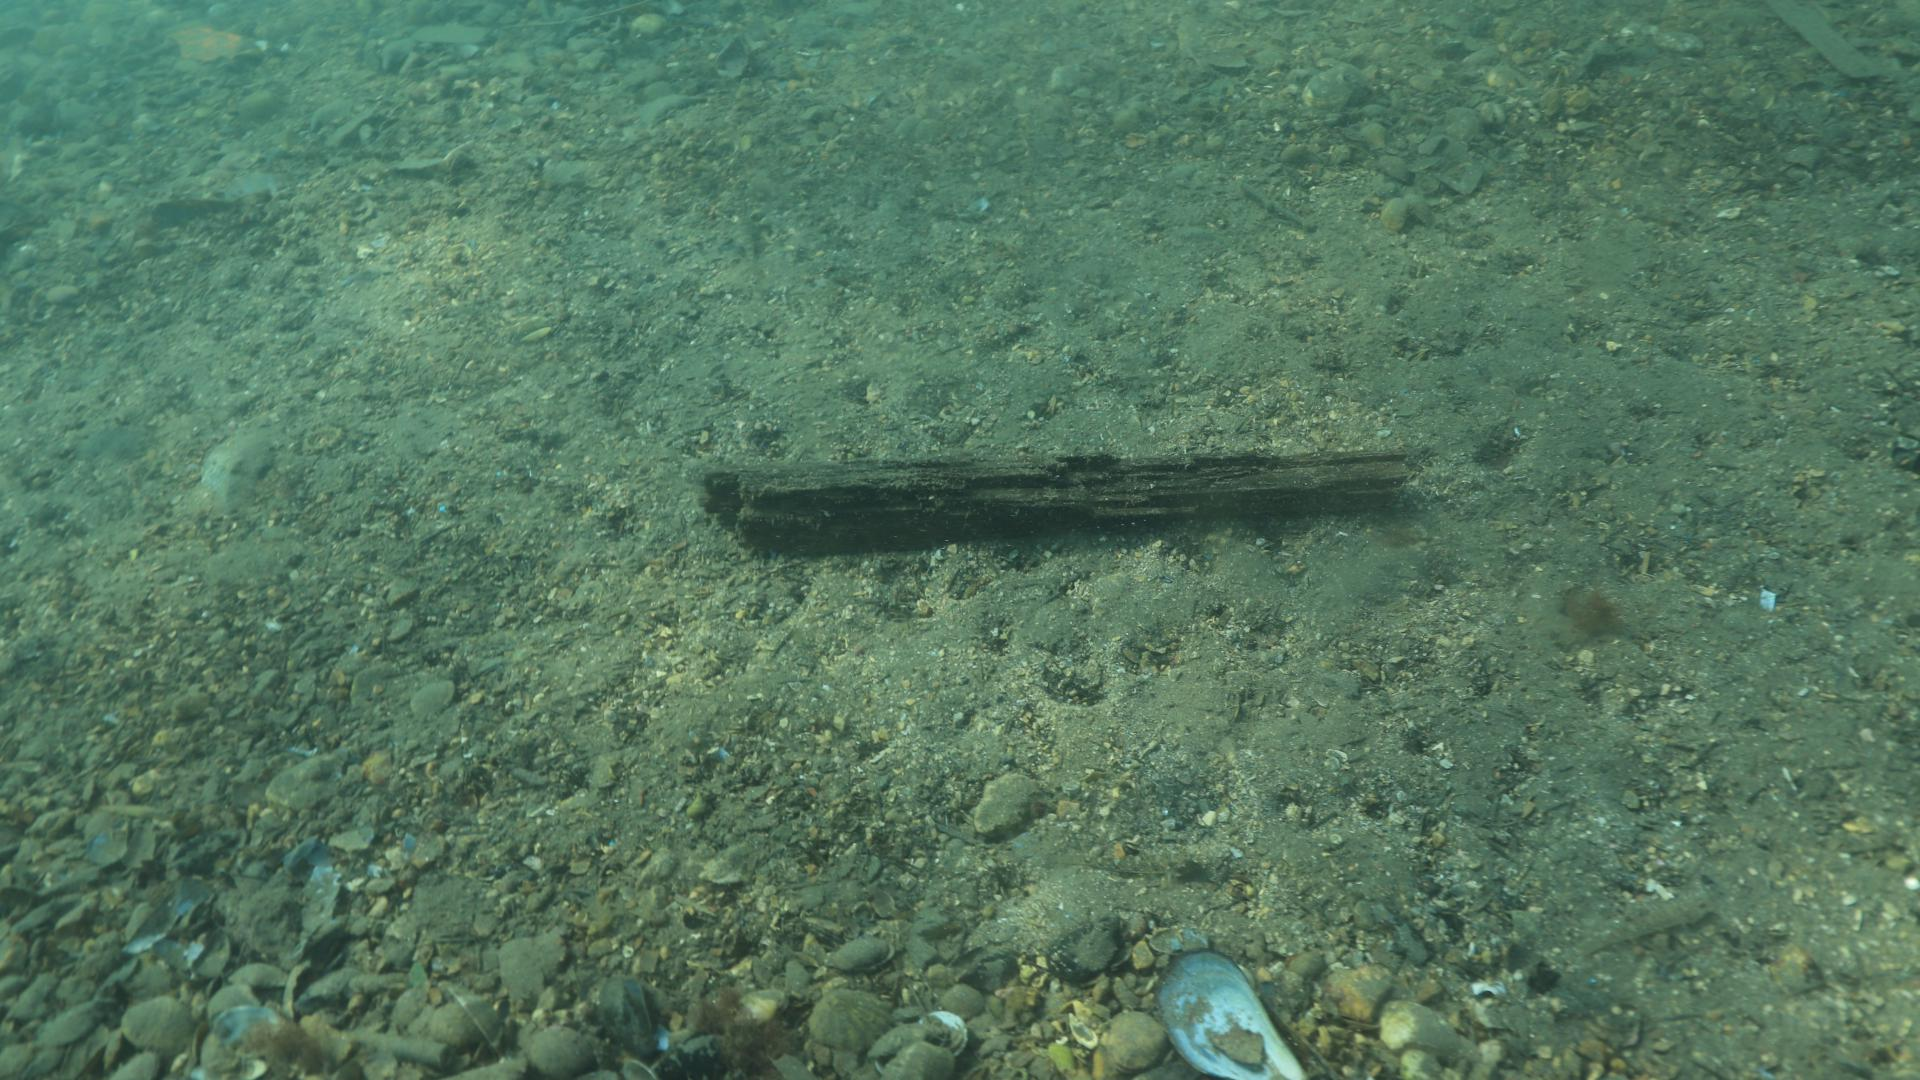wood: (694, 444, 1411, 553)
